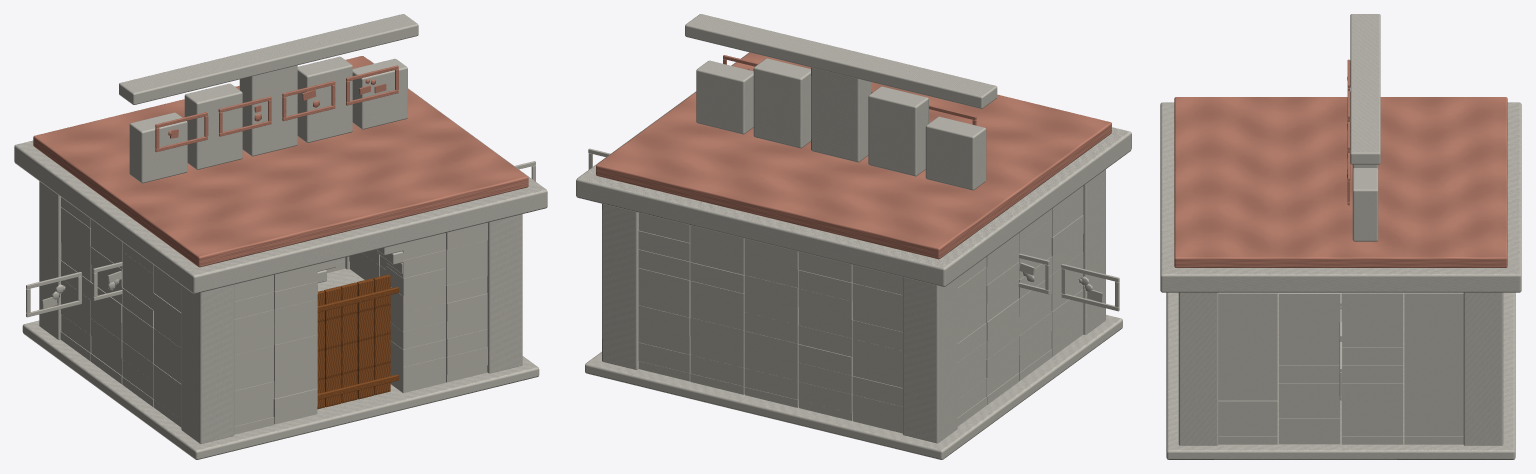
Rendered from summit_shrine.glb.
3 renders of one model, left to right at view 1: azimuth 30°, elevation 25°; view 2: azimuth 150°, elevation 25°; view 3: azimuth 270°, elevation 25°, orthographic. The views are drawn at different scales.
Visible parts, largest first — view 1: summit-shrine, door-shrine; view 2: summit-shrine; view 3: summit-shrine.
Part boxes in pixels (x1=…): summit-shrine: x1=14, y1=14, x2=547, y2=459; door-shrine: x1=317, y1=274, x2=398, y2=409; summit-shrine: x1=576, y1=14, x2=1131, y2=459; summit-shrine: x1=1160, y1=14, x2=1521, y2=459.
Size of the model in its own units: 9.61 by 5.29 by 5.9.
3 materials, 3 textured.
